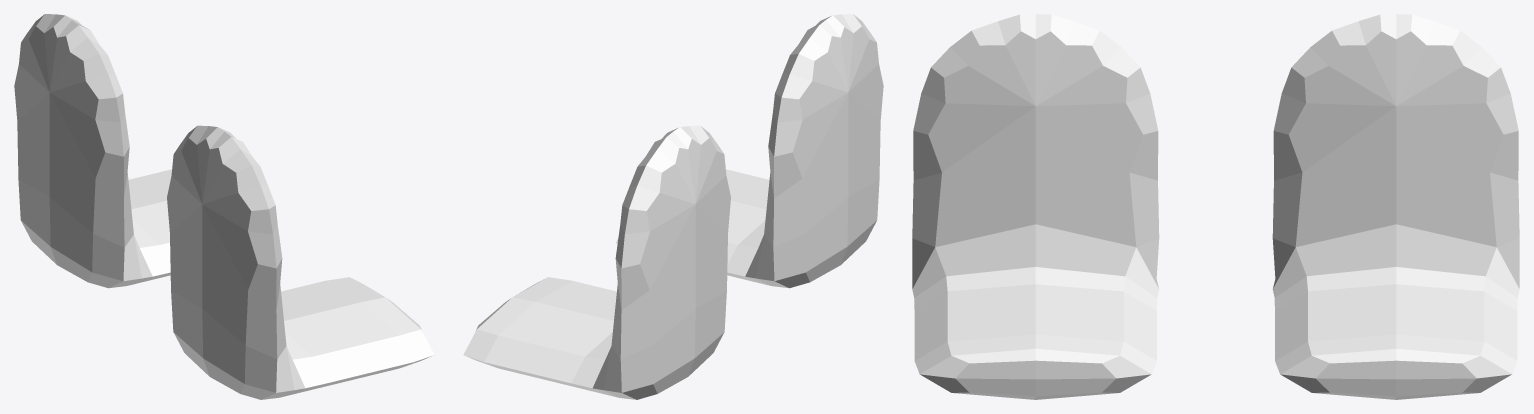
The model's file is InsideSeats.glb.
3 renders of one model, left to right at view 1: azimuth 30°, elevation 25°; view 2: azimuth 150°, elevation 25°; view 3: azimuth 270°, elevation 25°, orthographic. The views are drawn at different scales.
Parts seen in each view (by area): view 1: Cube.013; view 2: Cube.013; view 3: Cube.013.
Boxes of the visible parts, x1,y1,x2,y2 form: Cube.013: [14, 14, 434, 399]; Cube.013: [463, 14, 883, 399]; Cube.013: [912, 14, 1519, 399].
Bounding box in the file's own units: 0.0203 × 0.0252 × 0.0472.
1 material, 1 textured.
